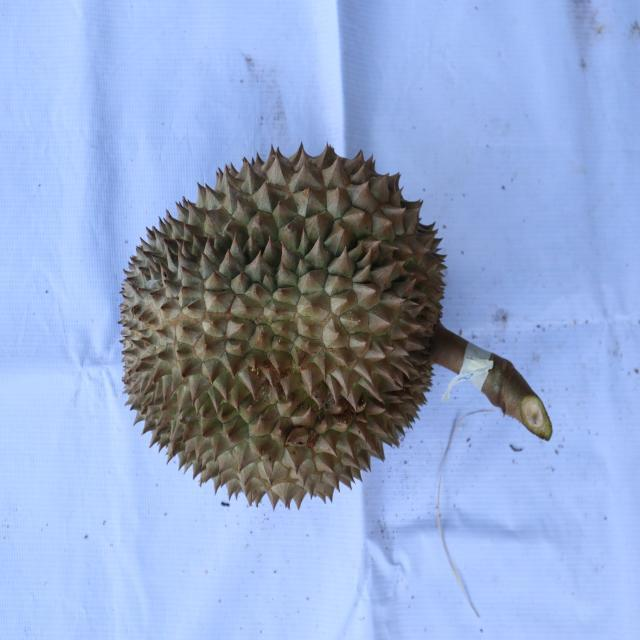mature: (113, 138, 448, 510)
